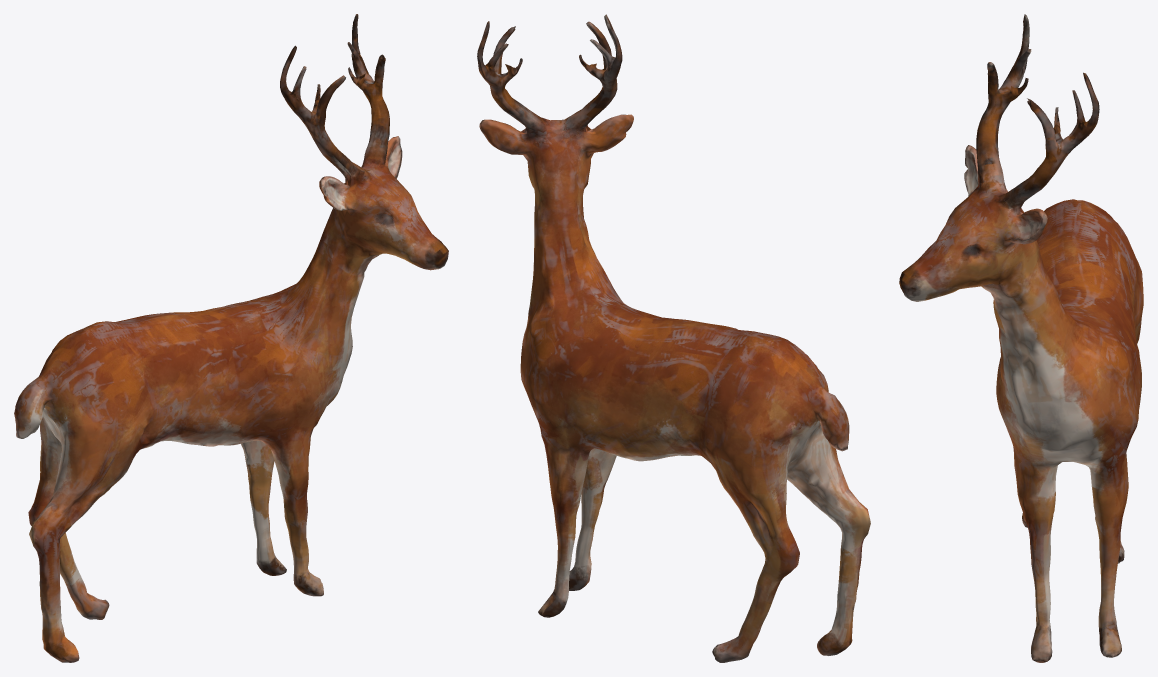
3 renders of one model, left to right at view 1: azimuth 30°, elevation 25°; view 2: azimuth 150°, elevation 25°; view 3: azimuth 270°, elevation 25°, orthographic. The views are drawn at different scales.
Visible parts, largest first — view 1: Deer_Low; view 2: Deer_Low; view 3: Deer_Low.
Part boxes in pixels (x1,y1,x2,y2): Deer_Low: (14, 14, 448, 662); Deer_Low: (477, 14, 870, 662); Deer_Low: (899, 14, 1143, 662).
Bounding box in the file's own units: 154 × 222 × 77.44.
Materials: 1 (1 with a texture image).
